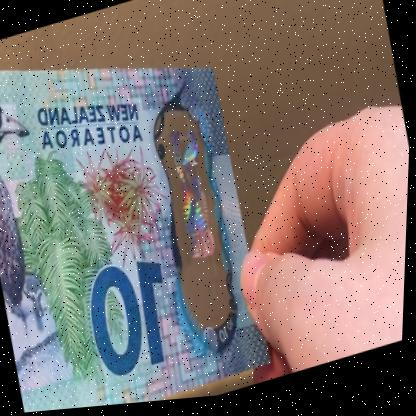10F: (157, 121, 239, 320)
